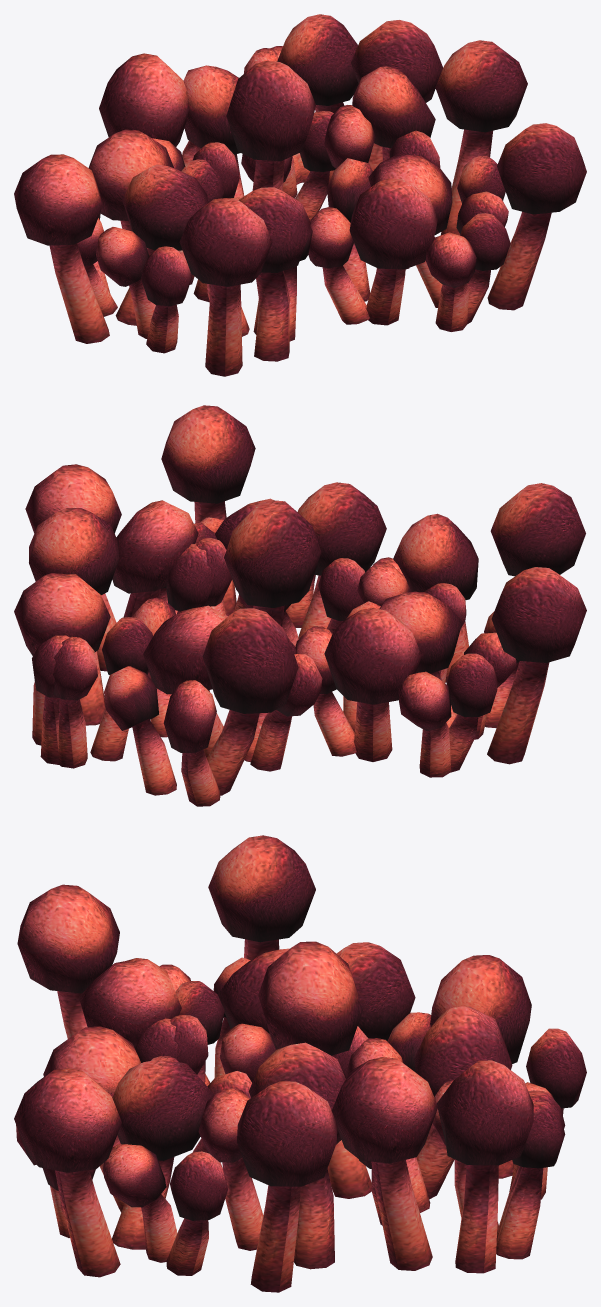
File: mushroom bed 1.fbx
3 views of the same model, one above another, from view 1: azimuth 30°, elevation 25°; view 2: azimuth 150°, elevation 25°; view 3: azimuth 270°, elevation 25° (orthographic). The views are drawn at different scales.
Visible parts, largest first — view 1: mushroom_bed_1; view 2: mushroom_bed_1; view 3: mushroom_bed_1.
Part boxes in pixels (bbox=[...]): mushroom_bed_1: bbox=[14, 14, 586, 376]; mushroom_bed_1: bbox=[14, 405, 586, 806]; mushroom_bed_1: bbox=[14, 835, 586, 1292].
Bounding box in the file's own units: 1.63 × 0.6289 × 1.36.
